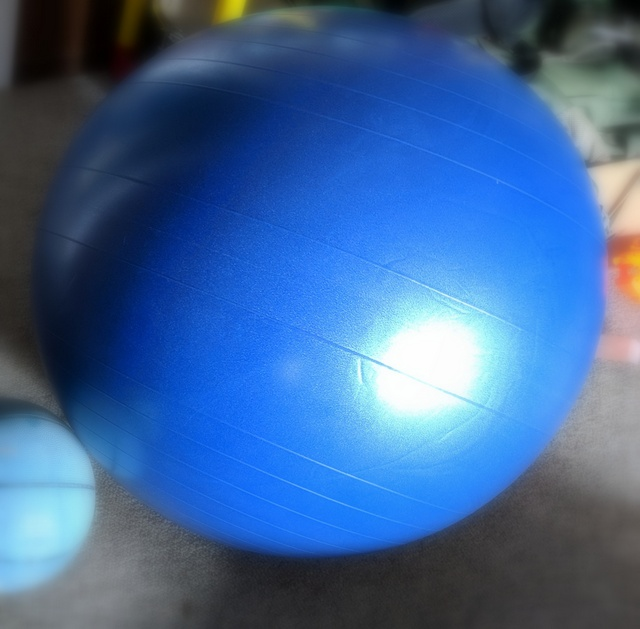ball: (29, 5, 613, 567)
